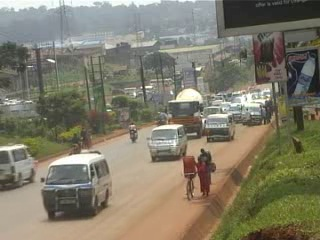Car: (215, 99, 232, 113)
Motorcycle: (123, 120, 140, 144), (68, 130, 83, 155), (80, 128, 96, 151), (154, 111, 169, 126)
